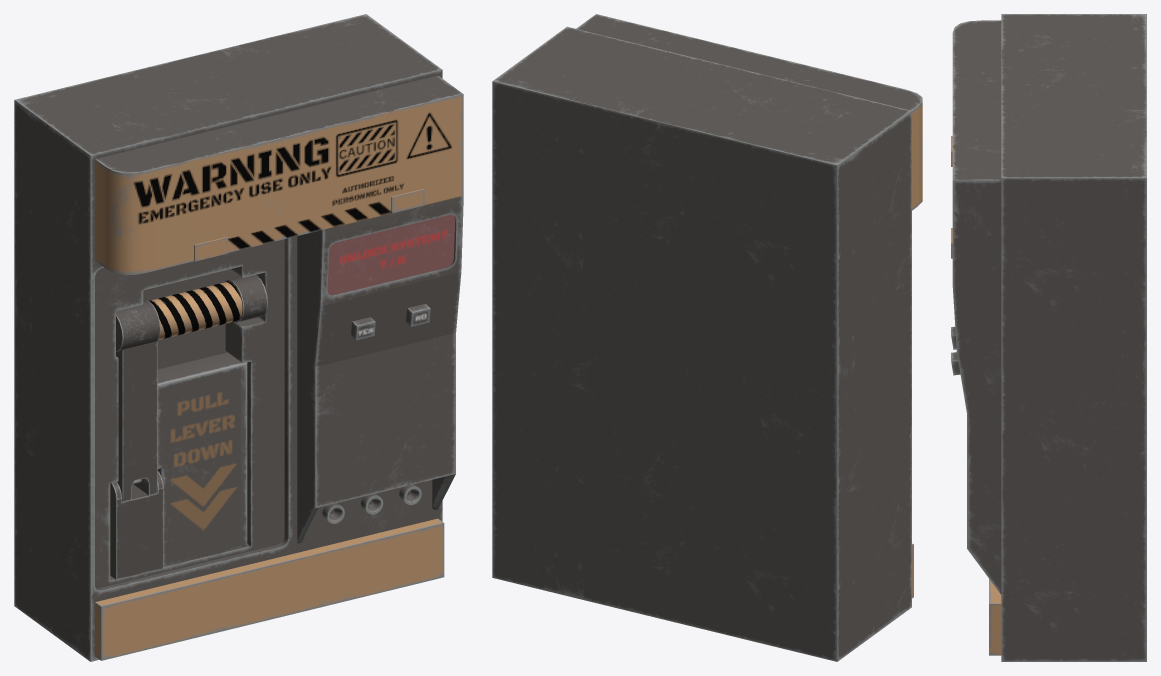
3 views of the same model, side by side, from view 1: azimuth 30°, elevation 25°; view 2: azimuth 150°, elevation 25°; view 3: azimuth 270°, elevation 25° (orthographic). The views are drawn at different scales.
Visible parts, largest first — view 1: Box003, Lever_Lever_0; view 2: Box003; view 3: Box003.
Part boxes in pixels (bbox=[...]): Box003: bbox=[14, 14, 463, 661]; Lever_Lever_0: bbox=[110, 275, 267, 579]; Box003: bbox=[492, 14, 922, 661]; Box003: bbox=[951, 14, 1146, 661].
Size of the model in its own units: 0.4 by 0.55 by 0.2017.
2 materials, 2 textured.
